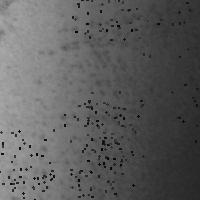pitted_surface: (45, 12, 162, 195), (82, 100, 142, 159), (64, 91, 121, 150), (129, 2, 189, 56), (0, 129, 53, 188), (78, 139, 132, 196), (72, 0, 130, 39), (69, 158, 121, 200), (0, 166, 53, 200), (171, 84, 200, 140)
